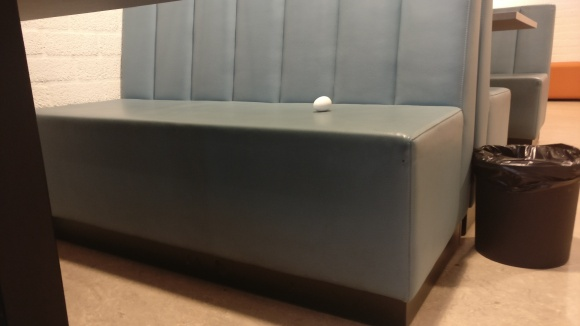egg: (312, 95, 332, 112)
